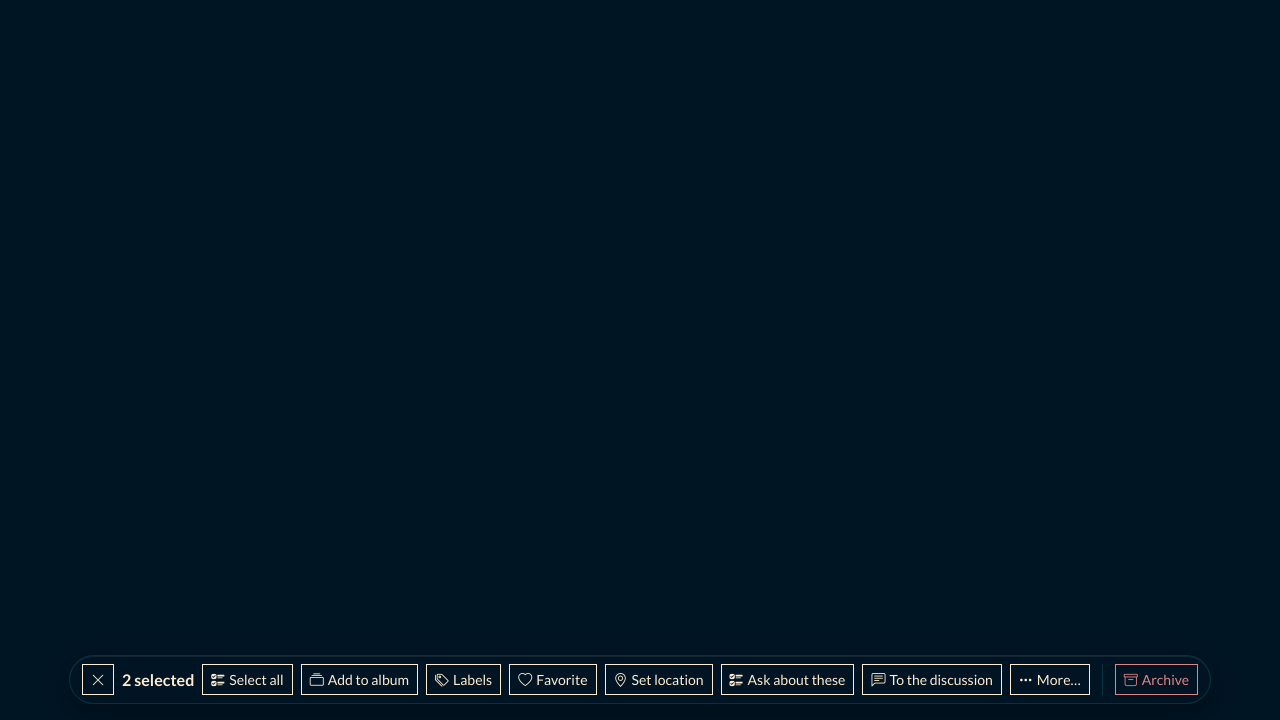
Test case: BatchActionBar discussion › posts the selection as one comment, clears it and tells the page
The width and height of the screenshot is (1280, 720).
Click the button "To the discussion".
click(932, 680)  # box [862, 664, 1002, 695]
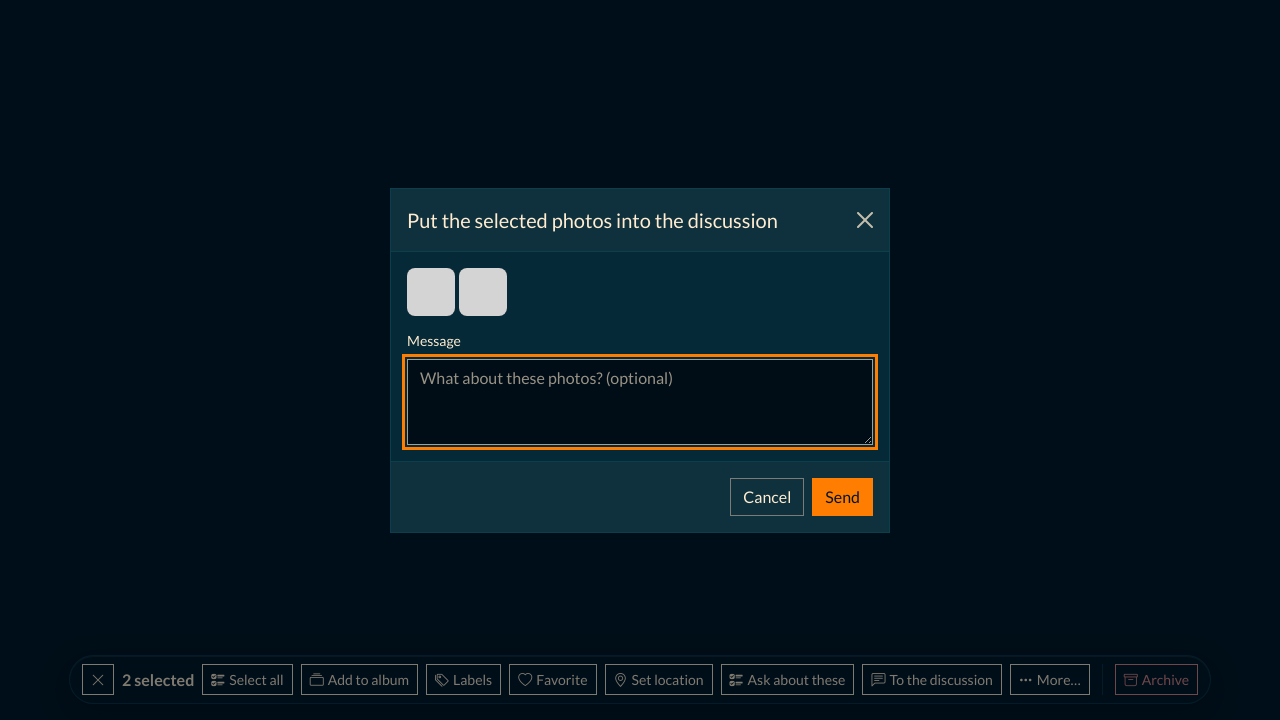
Type "These are wrong" into the text box labelled "Message".
click(640, 402); type("These are wrong")  # box [407, 358, 873, 444]
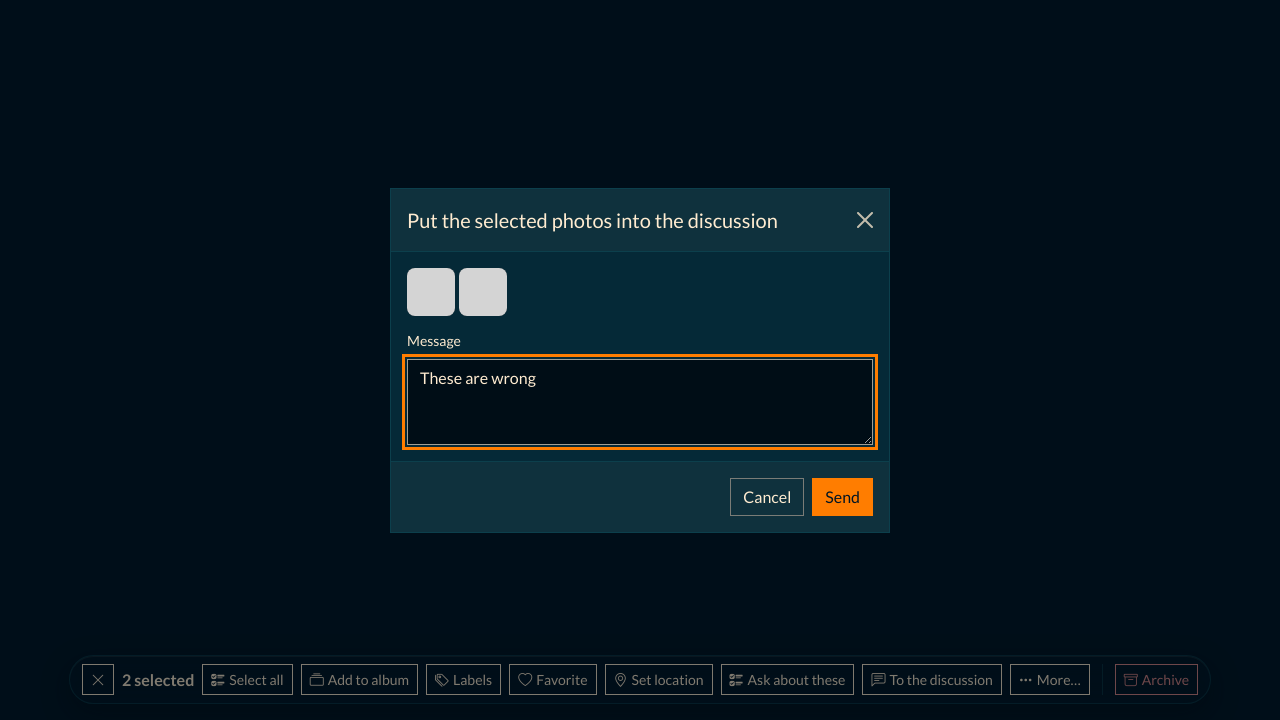
Click the button "Send".
click(843, 496)  # box [812, 478, 873, 516]
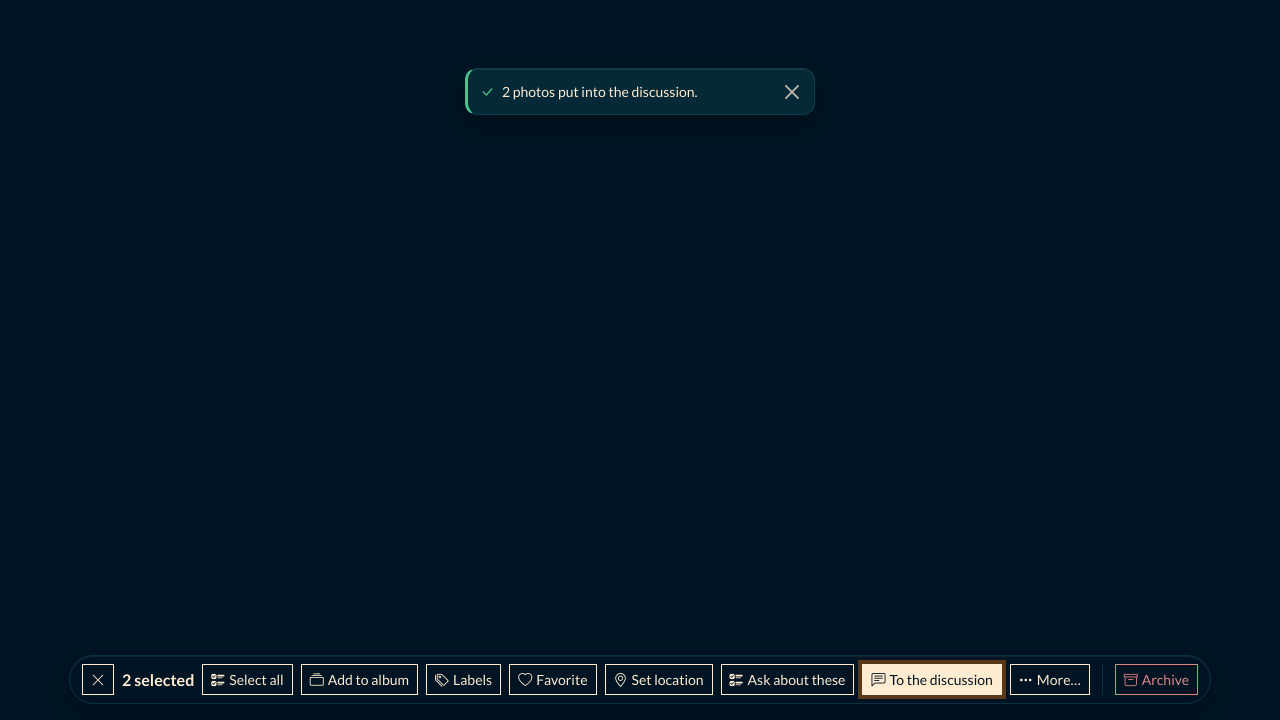
Expected: the text "2 photos put into the discussion." is shown, [502, 81, 698, 102]
